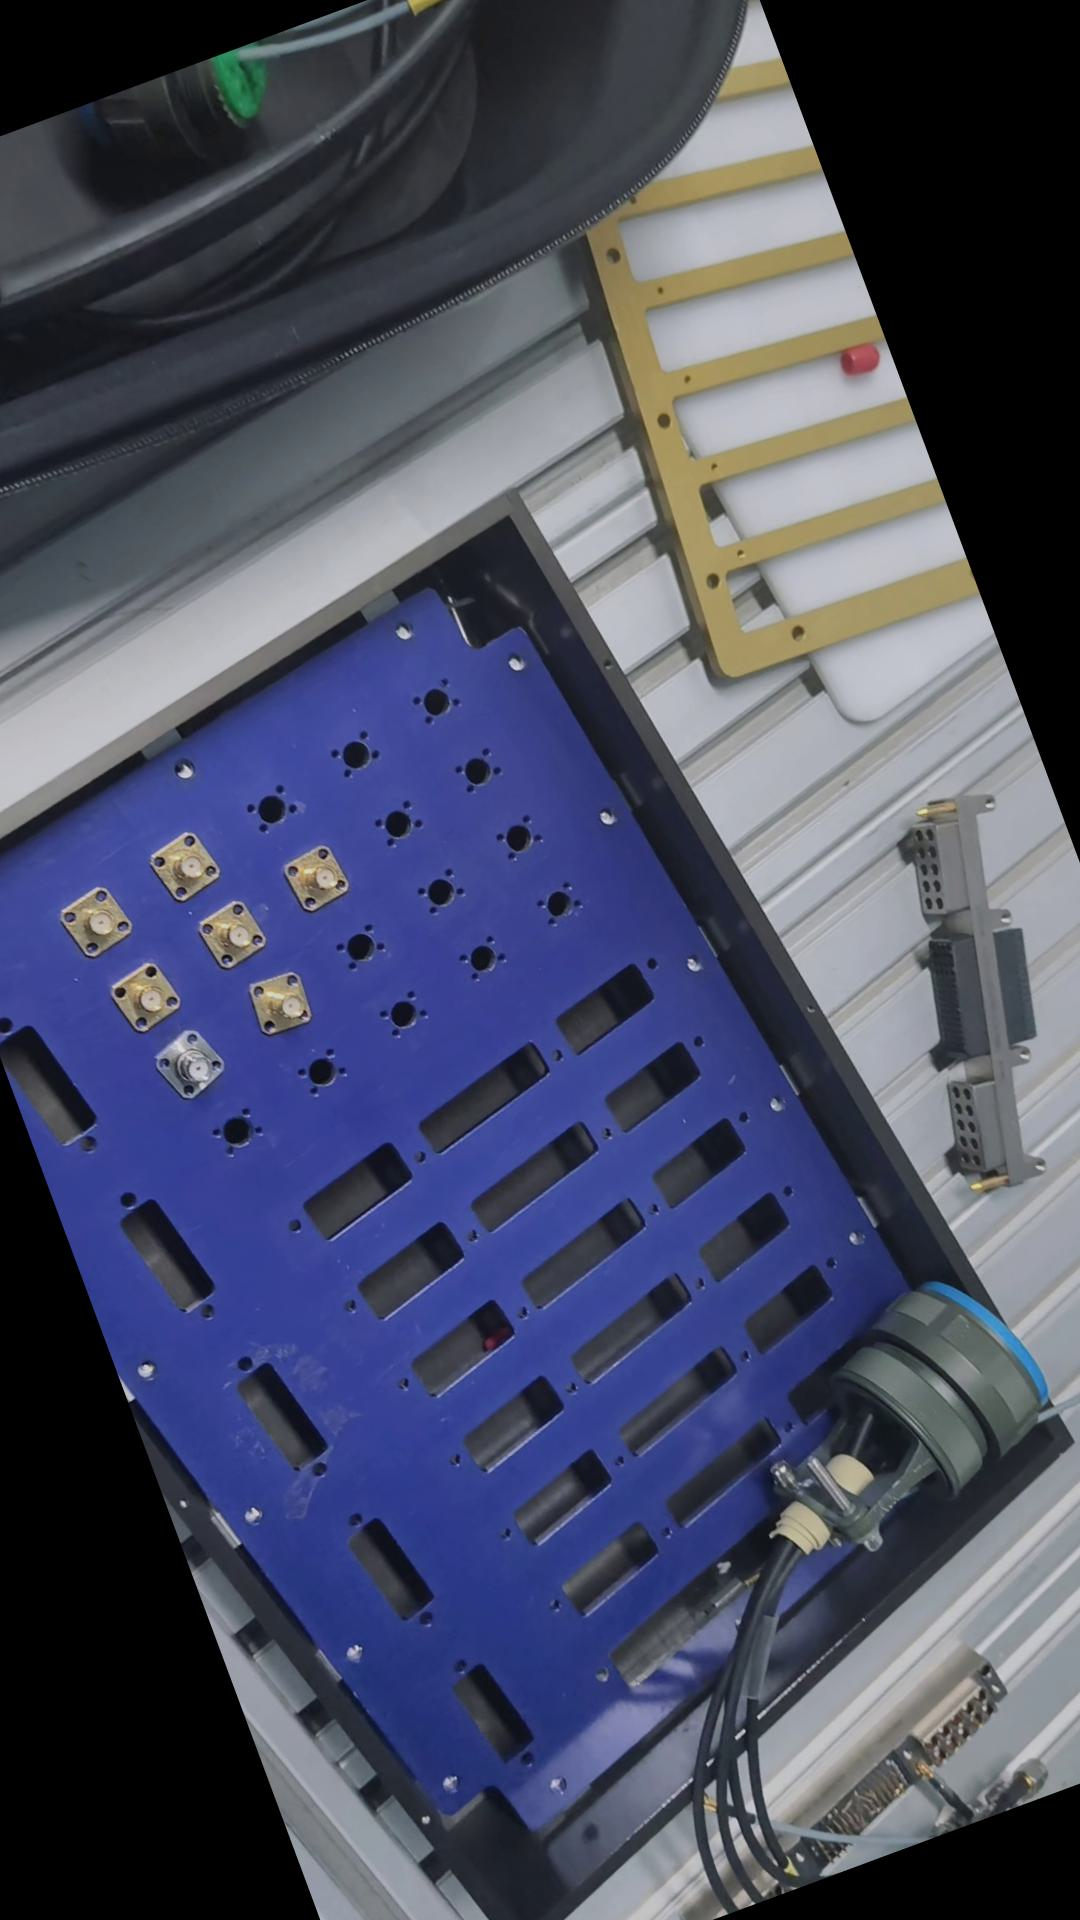SMA: (148, 1015, 237, 1108), (107, 951, 195, 1035), (54, 880, 138, 965), (191, 890, 277, 975), (244, 961, 328, 1042), (149, 825, 228, 905), (281, 841, 361, 918)
